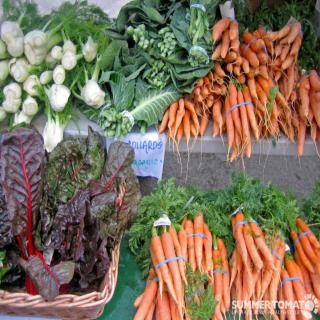Carrot: (158, 20, 320, 176), (133, 208, 320, 320), (162, 232, 182, 319)
